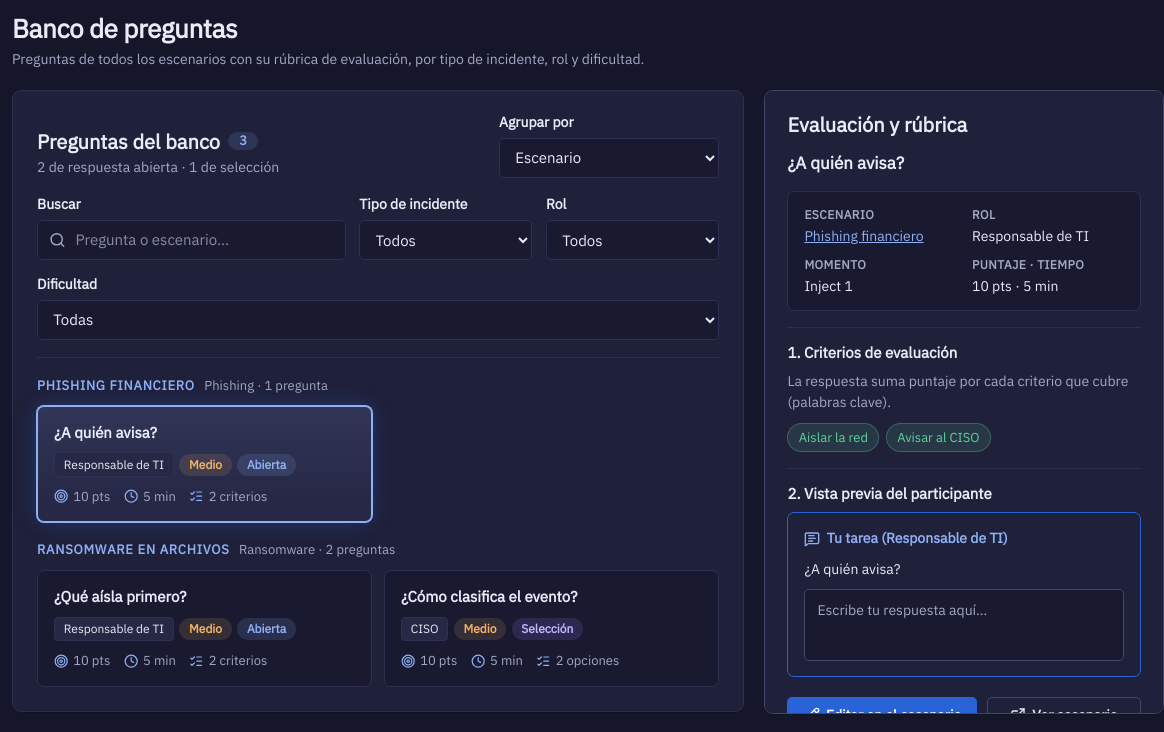
Test: BancoPreguntasPage › al elegir una pregunta de selección marca la opción correcta
Click the button "¿Cómo clasifica el evento?" at {"x": 552, "y": 628}, box [384, 570, 719, 687]
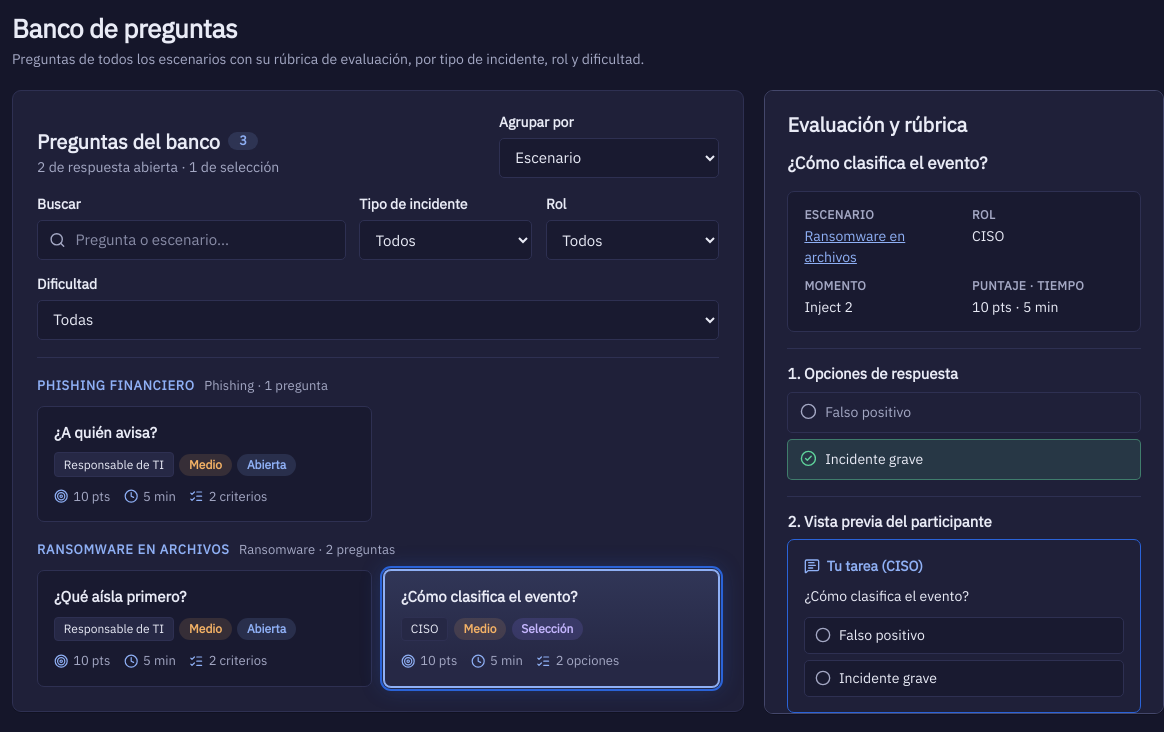
Check: the list item "(correcta)" below "1. Opciones de respuesta" reads "Incidente grave", box [825, 450, 923, 468]
